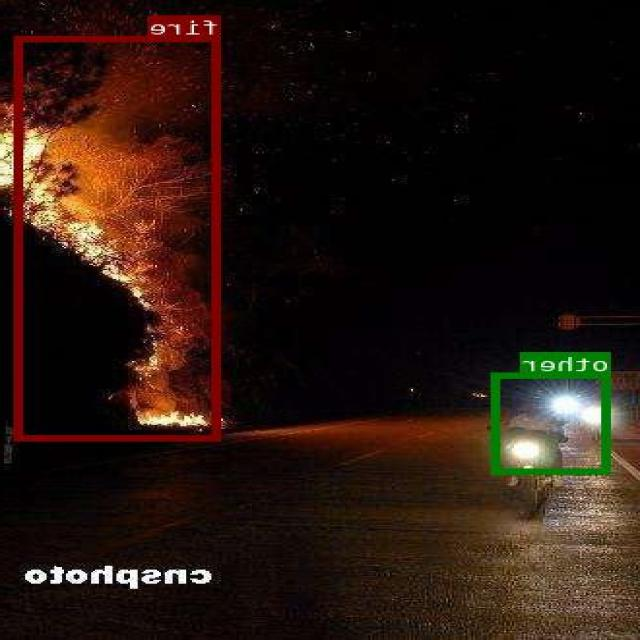fire: (17, 35, 221, 439)
other: (493, 372, 612, 473)
